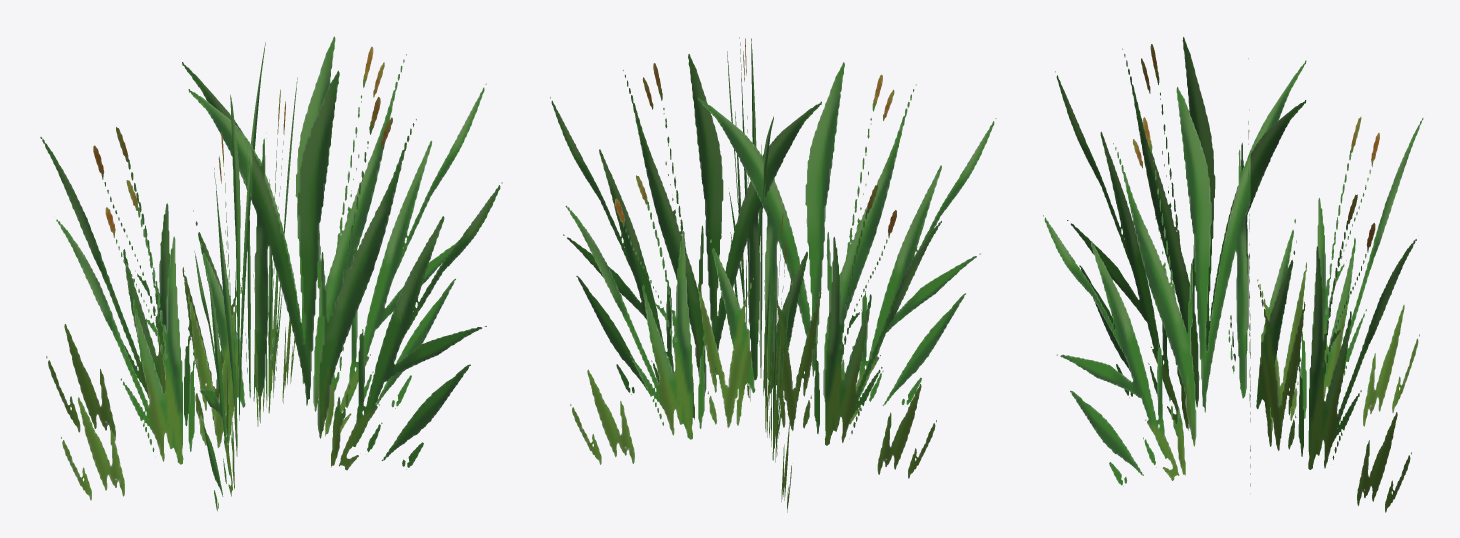
Rendered from Grass.fbx.
3 renders of one model, left to right at view 1: azimuth 30°, elevation 25°; view 2: azimuth 150°, elevation 25°; view 3: azimuth 270°, elevation 25°, orthographic. The views are drawn at different scales.
Visible parts, largest first — view 1: SM_Grass_01; view 2: SM_Grass_01; view 3: SM_Grass_01.
Boxes of the visible parts, box(x1,y1,x2,y2) form: SM_Grass_01: box(40, 36, 502, 511); SM_Grass_01: box(550, 37, 996, 512); SM_Grass_01: box(1043, 37, 1423, 512).
Size of the model in its own units: 36.31 by 33.03 by 28.46.
